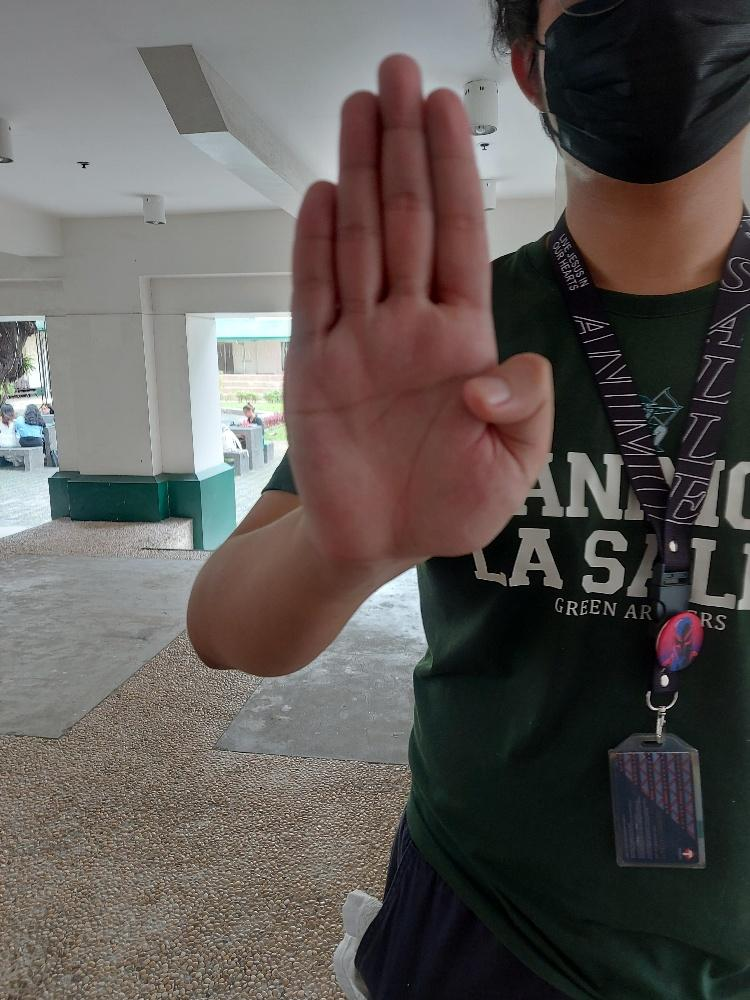b: (280, 48, 555, 561)
